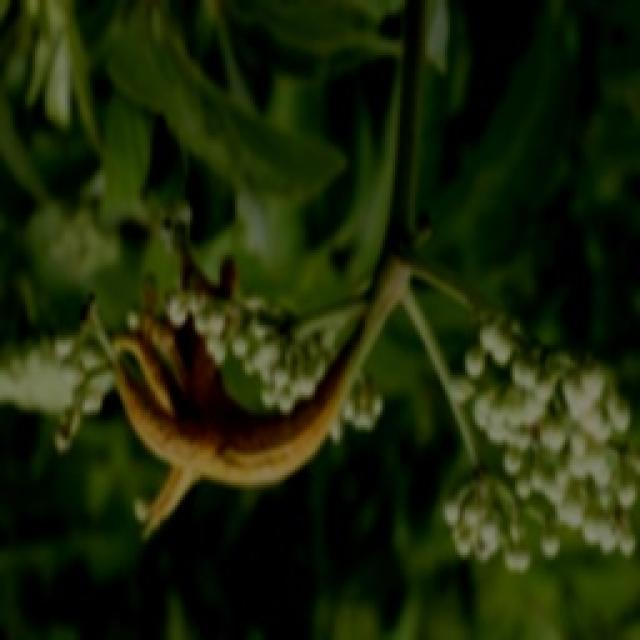Elderberry_rust: (98, 270, 378, 540)
